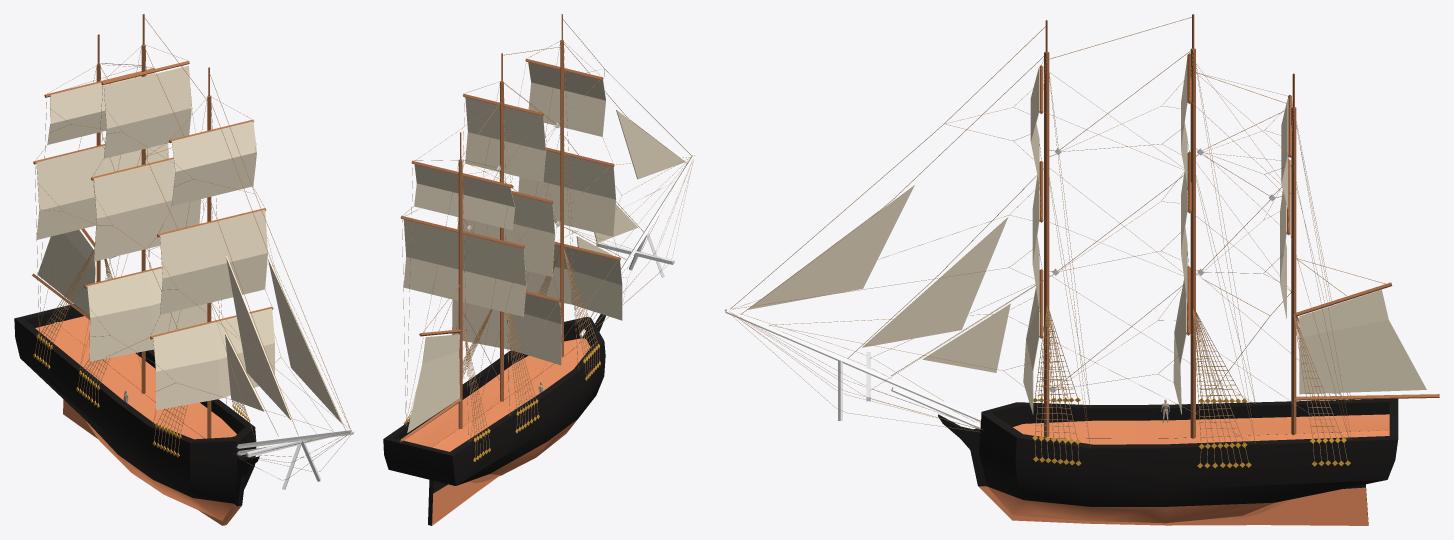
The model's file is Ship.fbx.
3 views of the same model, side by side, from view 1: azimuth 30°, elevation 25°; view 2: azimuth 150°, elevation 25°; view 3: azimuth 270°, elevation 25° (orthographic). The views are drawn at different scales.
Visible parts, largest first — view 1: Cylinder, Cube, Cube.003, NurbsPath.004, NurbsPath, Cube.001, NurbsPath.003, NurbsPath.001; view 2: Cylinder, Cube, NurbsPath.004, Cube.003, Cube.001, NurbsPath.002, NurbsPath.001, NurbsPath, NurbsPath.003; view 3: Cube, Cylinder, Cube.003, NurbsPath.004, NurbsPath, Cube.001, NurbsPath.002, NurbsPath.001, NurbsPath.003.
Part boxes in pixels (x1,y1,x2,y2): Cylinder: (32,14,274,438); Cube: (14,304,259,525); Cube.003: (225,256,342,424); NurbsPath.004: (35,45,350,480); NurbsPath: (99,17,350,436); Cube.001: (237,430,354,489); NurbsPath.003: (34,249,112,366); NurbsPath.001: (154,400,249,452); Cylinder: (399,14,622,442); Cube: (383,314,605,525); NurbsPath.004: (402,41,693,441); Cube.003: (576,110,684,255); Cube.001: (579,155,695,337); NurbsPath.002: (462,309,538,428); NurbsPath.001: (538,248,599,376); NurbsPath: (423,19,692,382); NurbsPath.003: (406,327,489,457); Cube: (938,398,1398,525); Cylinder: (1023,14,1439,438); Cube.003: (748,185,1010,372); NurbsPath.004: (729,50,1351,446); NurbsPath: (730,17,1385,414); Cube.001: (724,308,981,428); NurbsPath.002: (1192,310,1248,462); NurbsPath.001: (1034,306,1079,460); NurbsPath.003: (1293,314,1347,463).
Bounding box in the file's own units: 1691 × 5510 × 7002.
